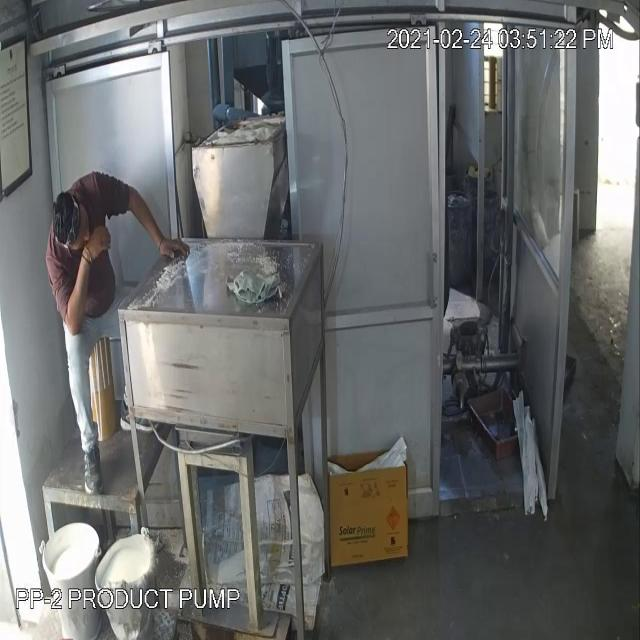no-helmet: (46, 170, 94, 260)
